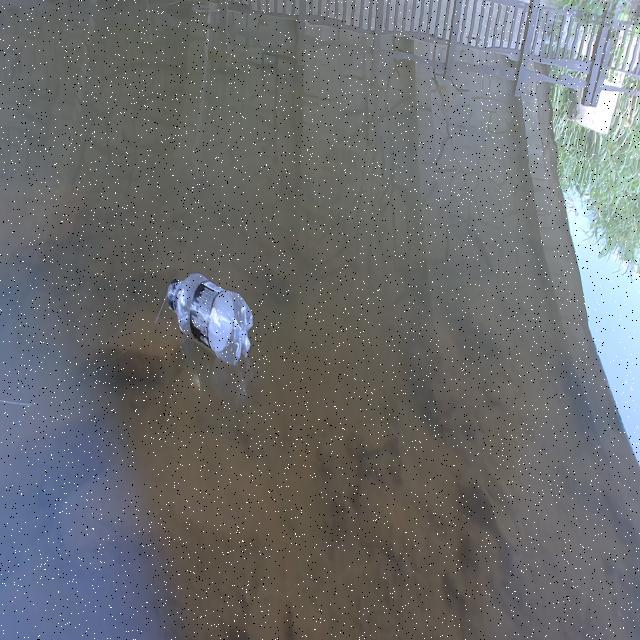Bottle: (165, 270, 254, 368)
